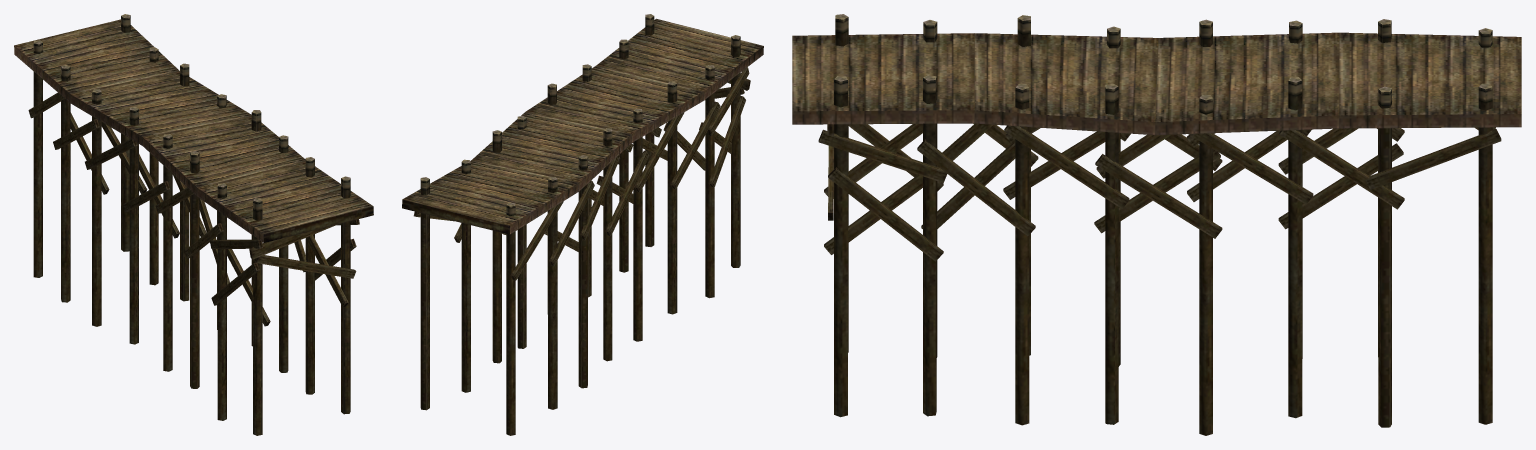
File: b_general_obj_01_3.fbx
3 renders of one model, left to right at view 1: azimuth 30°, elevation 25°; view 2: azimuth 150°, elevation 25°; view 3: azimuth 270°, elevation 25°, orthographic. The views are drawn at different scales.
Parts seen in each view (by area): view 1: B_general_obj_01_3; view 2: B_general_obj_01_3; view 3: B_general_obj_01_3.
Boxes of the visible parts, x1,y1,x2,y2 form: B_general_obj_01_3: [14, 14, 373, 435]; B_general_obj_01_3: [402, 14, 763, 435]; B_general_obj_01_3: [792, 14, 1521, 435].
Size of the model in its own units: 5.43 by 10.65 by 20.
